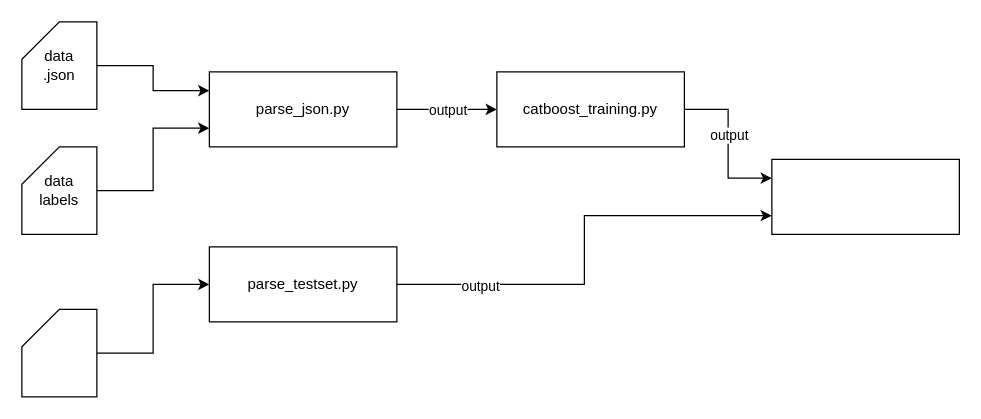
Some shapes in this 981 by 419 pixel diagram are drawn without their labels. The centre of each missing label's shape, as x and y in pixels:
"catboost_predictions.py" belongs at point (865, 196).
"testset .json" belongs at point (59, 352).
